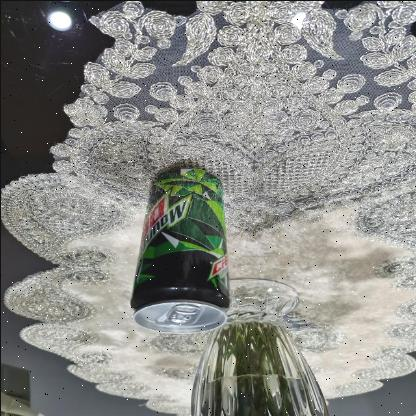Can: (127, 159, 243, 338)
